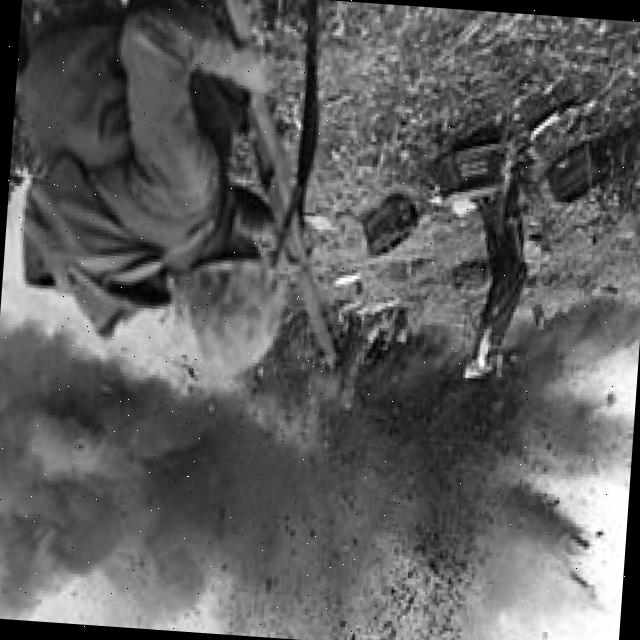explosion: (0, 227, 614, 640)
